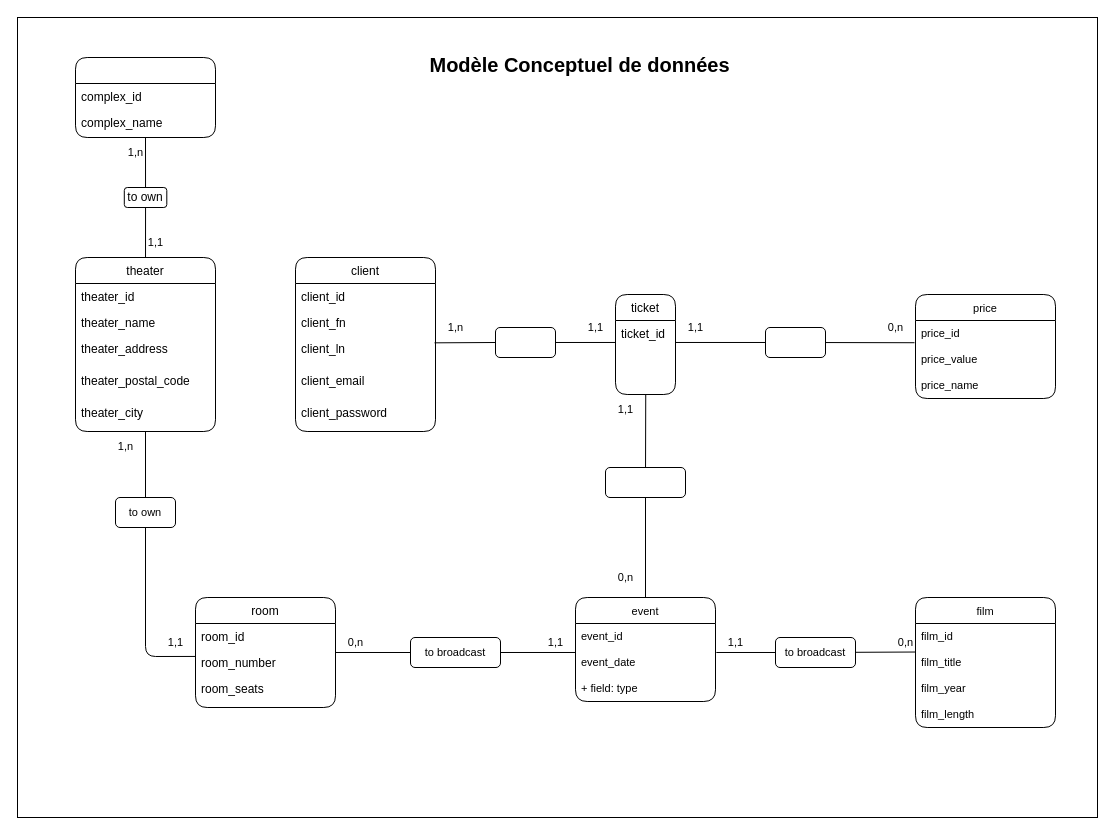
The diagram is 1115 pixels wide and 835 high, and some of its shapes have lost their labels. The shapes that lost their labels are listed below. From the top down, each one's box as (x1, y1, x2, y2) in pixels, then its label:
(74, 56, 216, 138): theater_complex
(494, 326, 556, 358): to buy
(764, 326, 826, 358): to cost
(604, 466, 686, 498): to refer
